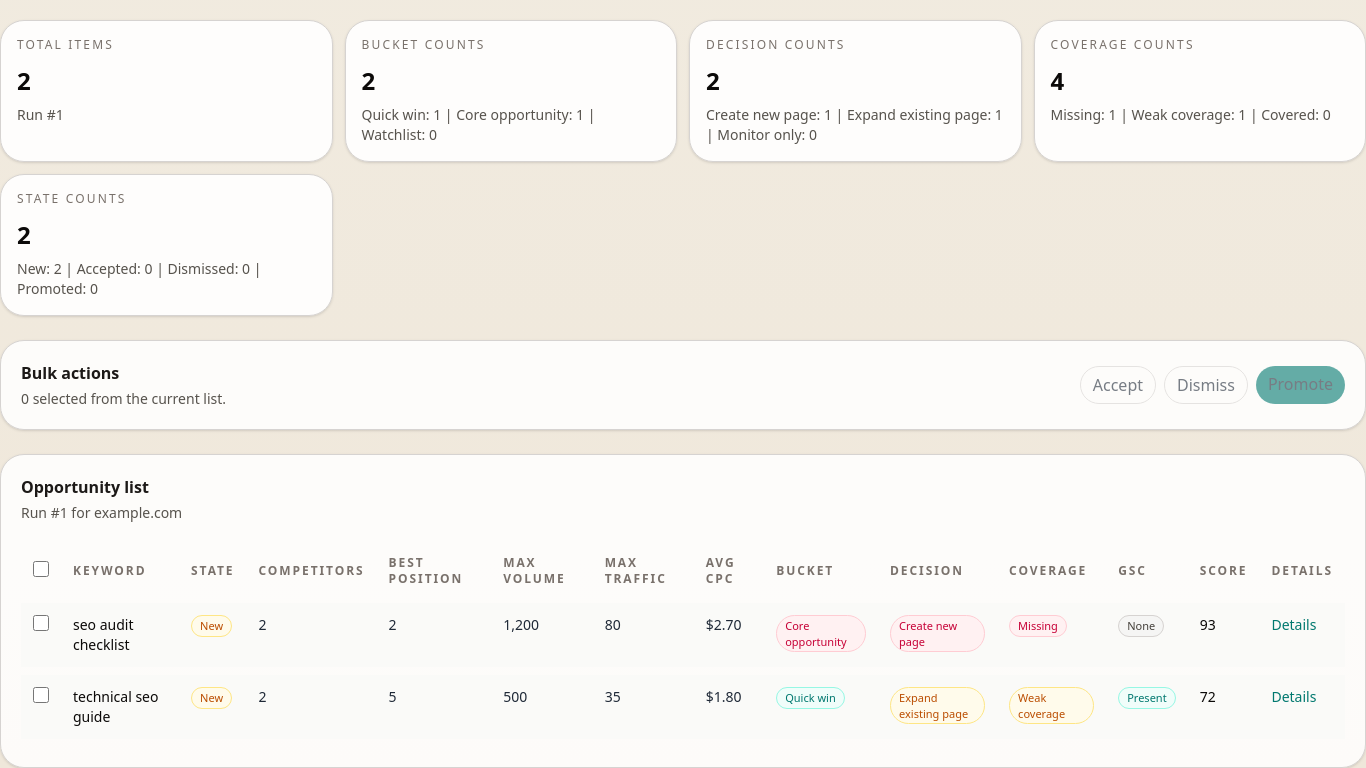
Test: SiteCompetitiveGapSemstormPage › supports bulk accept and updates state badge
(page scrolled)
Expected: the heading "Opportunity list" is shown, [21,476,149,498]
Click the checkbox named "Select seo audit checklist".
click(41, 623)  # box [33,615,49,631]
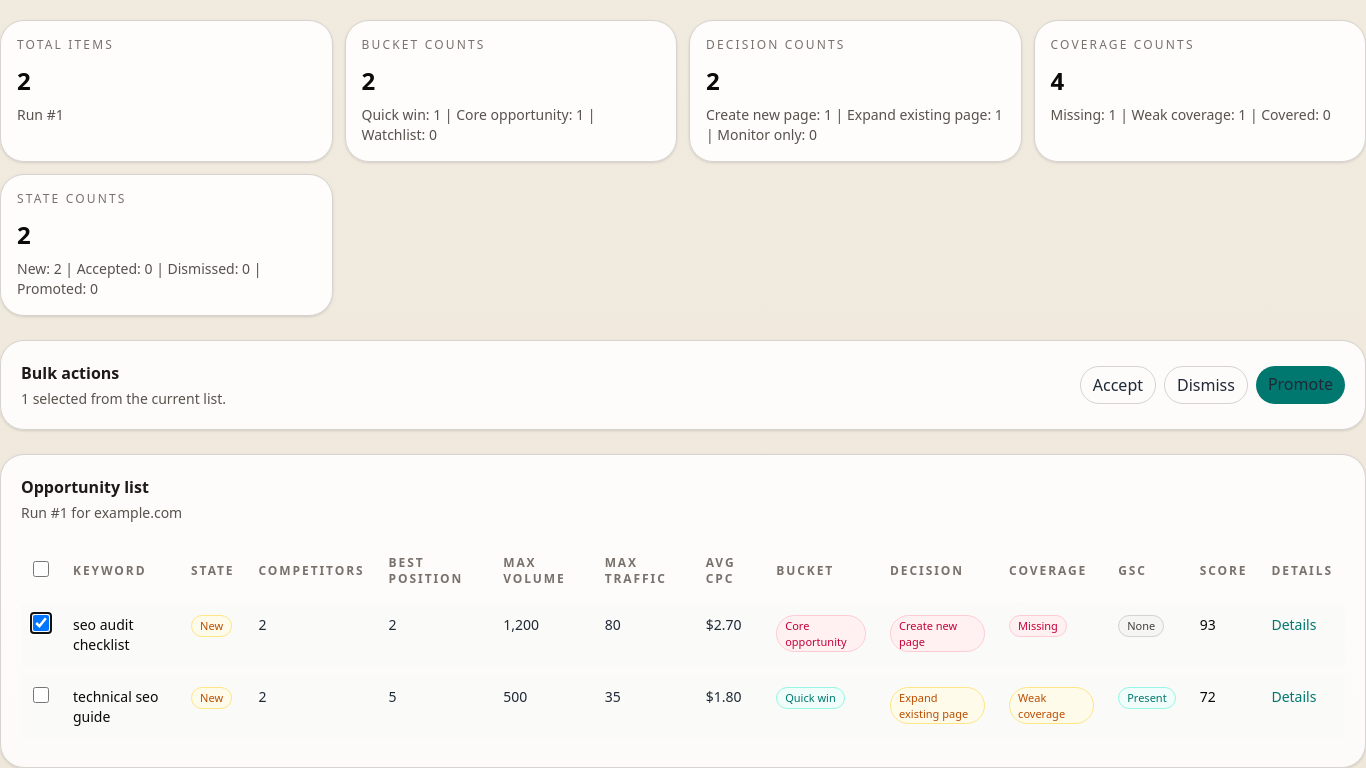
Click the button "Accept".
click(1118, 385)  # box [1080,366,1156,404]
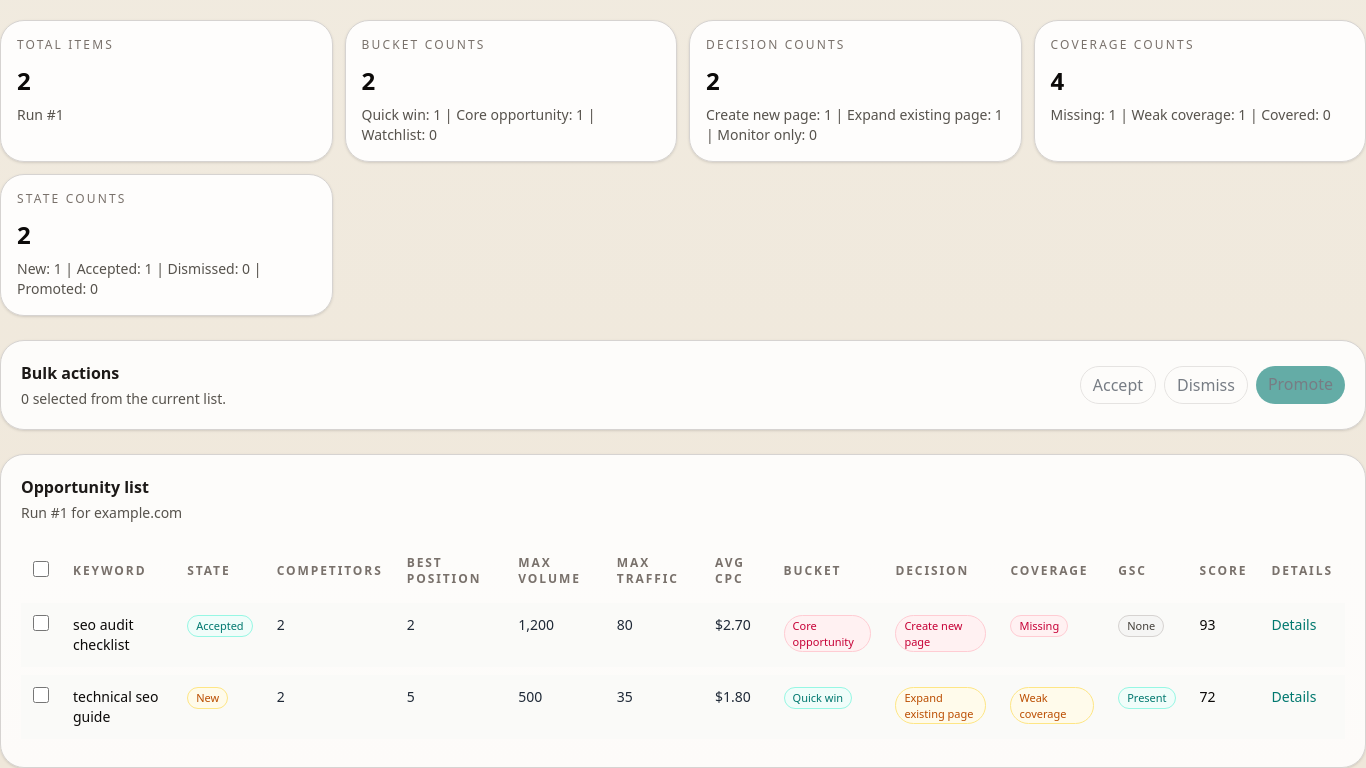
Expected: the text "seo audit checklist" is shown, [73,615,134,654]
Result: the text "Accepted" is shown at [187,615,253,637]
